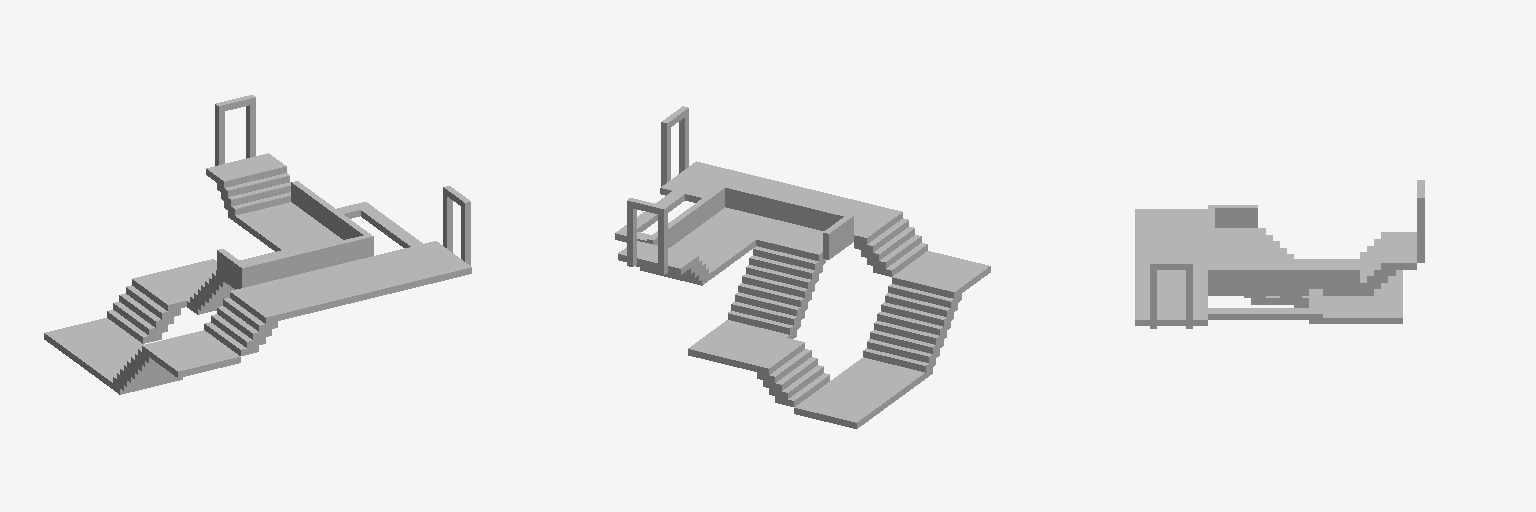
Rendered from lvl02_all.obj.
The picture shows the model from 3 angles: view 1: azimuth 30°, elevation 25°; view 2: azimuth 150°, elevation 25°; view 3: azimuth 270°, elevation 25°; orthographic projection.
Parts seen in each view (by area): view 1: lvl02_all:Mesh; view 2: lvl02_all:Mesh; view 3: lvl02_all:Mesh.
Boxes of the visible parts, x1,y1,x2,y2 form: lvl02_all:Mesh: [44, 95, 471, 394]; lvl02_all:Mesh: [615, 106, 990, 428]; lvl02_all:Mesh: [1135, 180, 1424, 328].
Bounding box in the file's own units: 48 × 28 × 40.